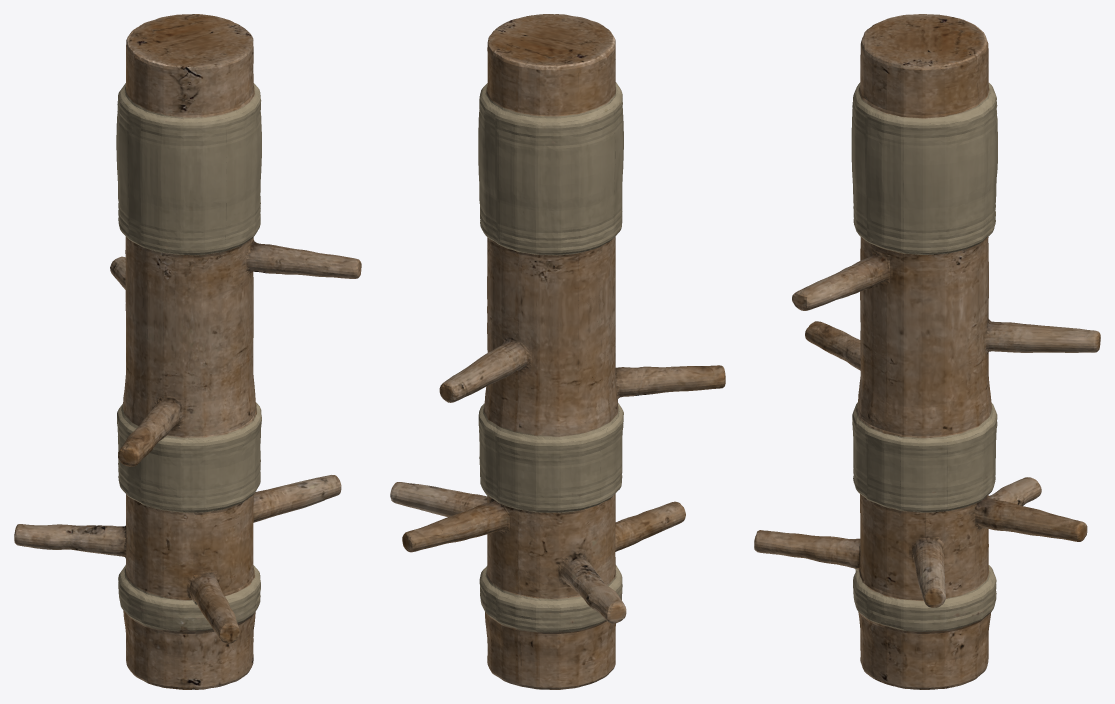
3 views of the same model, side by side, from view 1: azimuth 30°, elevation 25°; view 2: azimuth 150°, elevation 25°; view 3: azimuth 270°, elevation 25° (orthographic).
Parts seen in each view (by area): view 1: Node; view 2: Node; view 3: Node.
Part boxes in pixels (left/top/right/bottom): Node: left=14, top=14, right=361, bottom=689; Node: left=390, top=14, right=725, bottom=689; Node: left=754, top=14, right=1100, bottom=689.
Size of the model in its own units: 0.9073 by 1.95 by 0.9819.
Materials: 1 (1 with a texture image).
